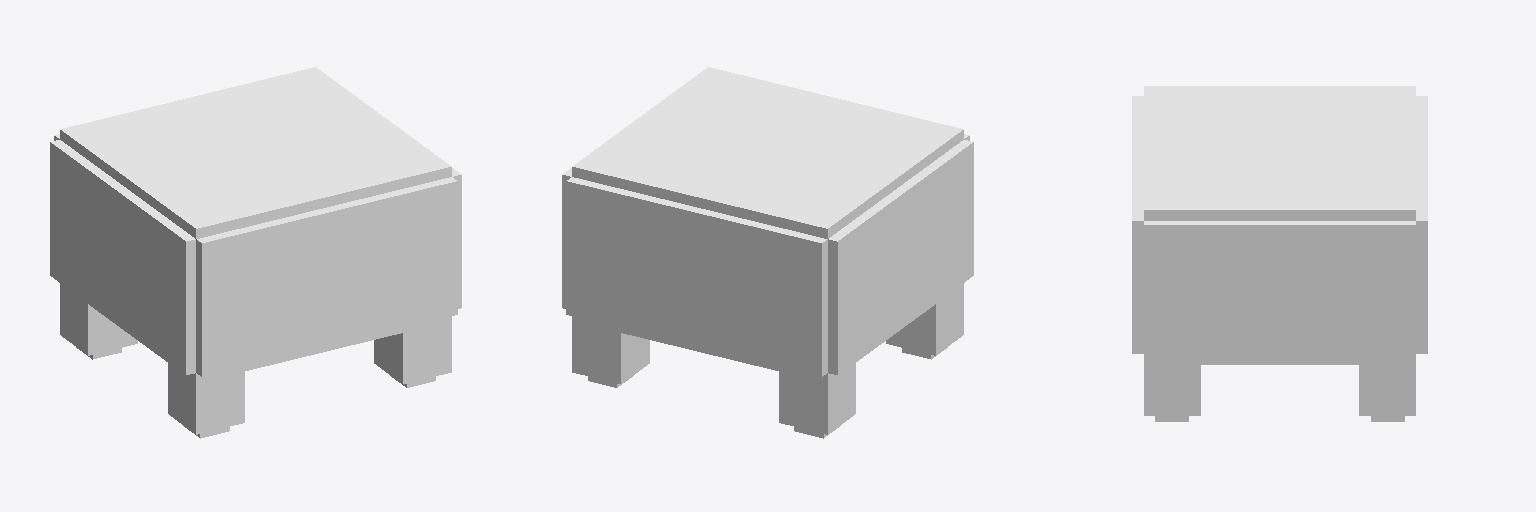
The model's file is chair3.obj.
3 renders of one model, left to right at view 1: azimuth 30°, elevation 25°; view 2: azimuth 150°, elevation 25°; view 3: azimuth 270°, elevation 25°, orthographic.
Visible parts, largest first — view 1: object 1; view 2: object 1; view 3: object 1.
Boxes of the visible parts, <box> form: object 1: <box>50,67,461,438</box>; object 1: <box>562,67,973,438</box>; object 1: <box>1132,86,1427,421</box>.
Size of the model in its own units: 2.8 by 2.1 by 2.6.